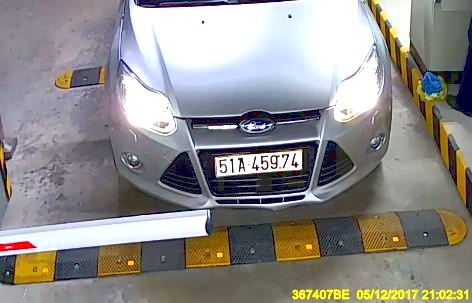plate: (213, 147, 305, 178)
